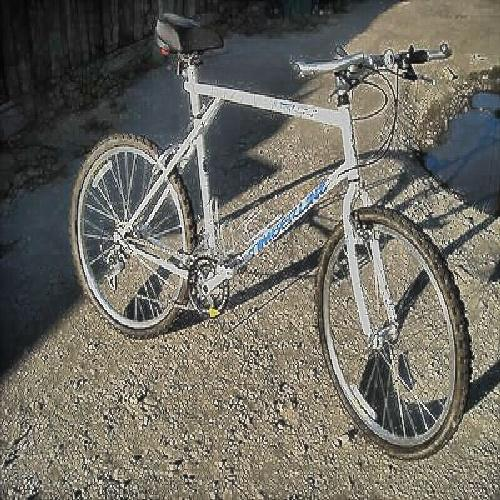bicycle: (73, 28, 466, 454)
